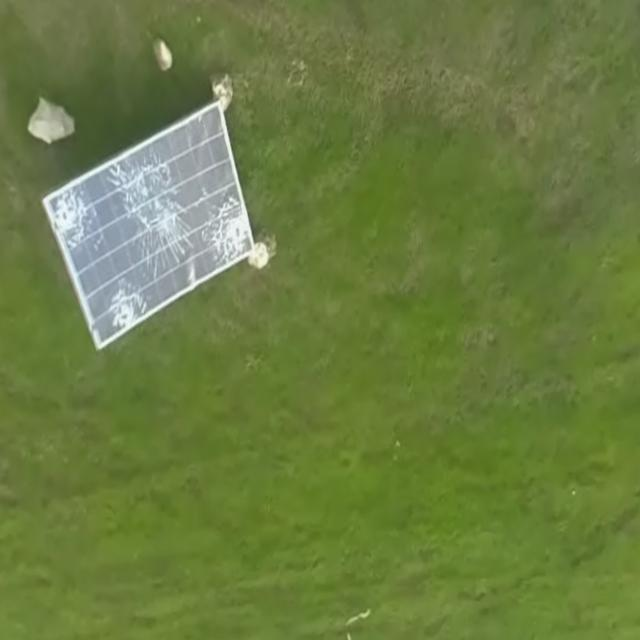faulty: (45, 106, 255, 350)
